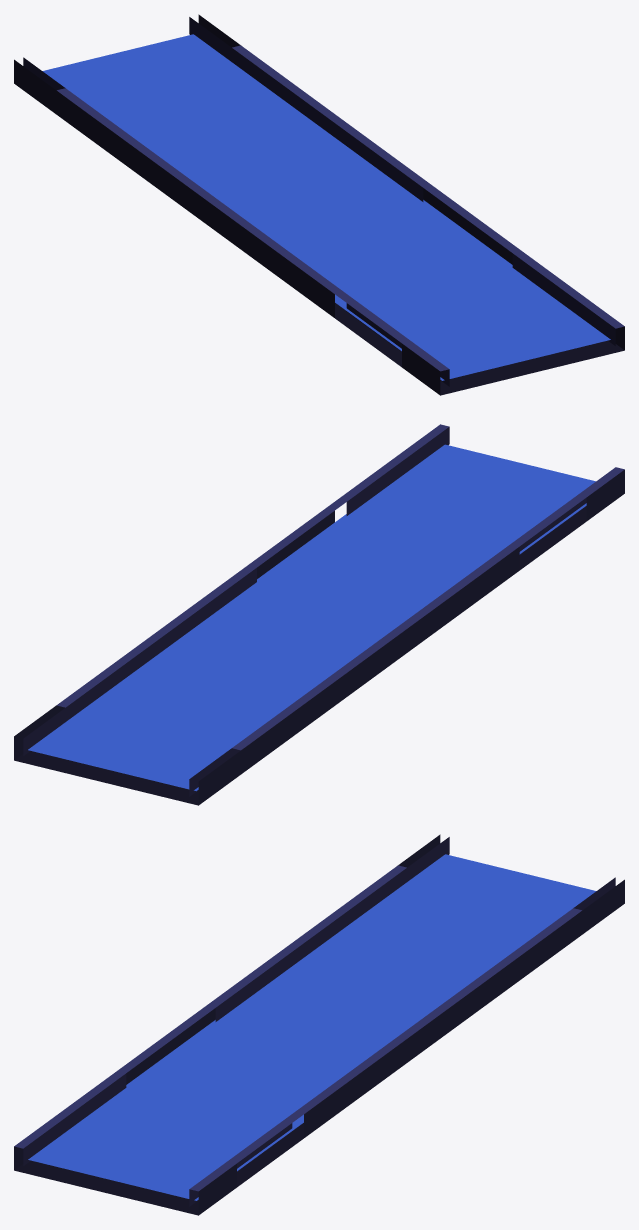
Rendered from lumian.FBX.
3 renders of one model, top to bottom at view 1: azimuth 30°, elevation 25°; view 2: azimuth 150°, elevation 25°; view 3: azimuth 330°, elevation 25°, orthographic.
Parts seen in each view (by area): view 1: Box01; view 2: Box01; view 3: Box01.
Boxes of the visible parts, x1,y1,x2,y2 form: Box01: (14, 14, 624, 395); Box01: (14, 424, 624, 805); Box01: (14, 834, 624, 1215).
Size of the model in its own units: 2000 by 250 by 8000.
